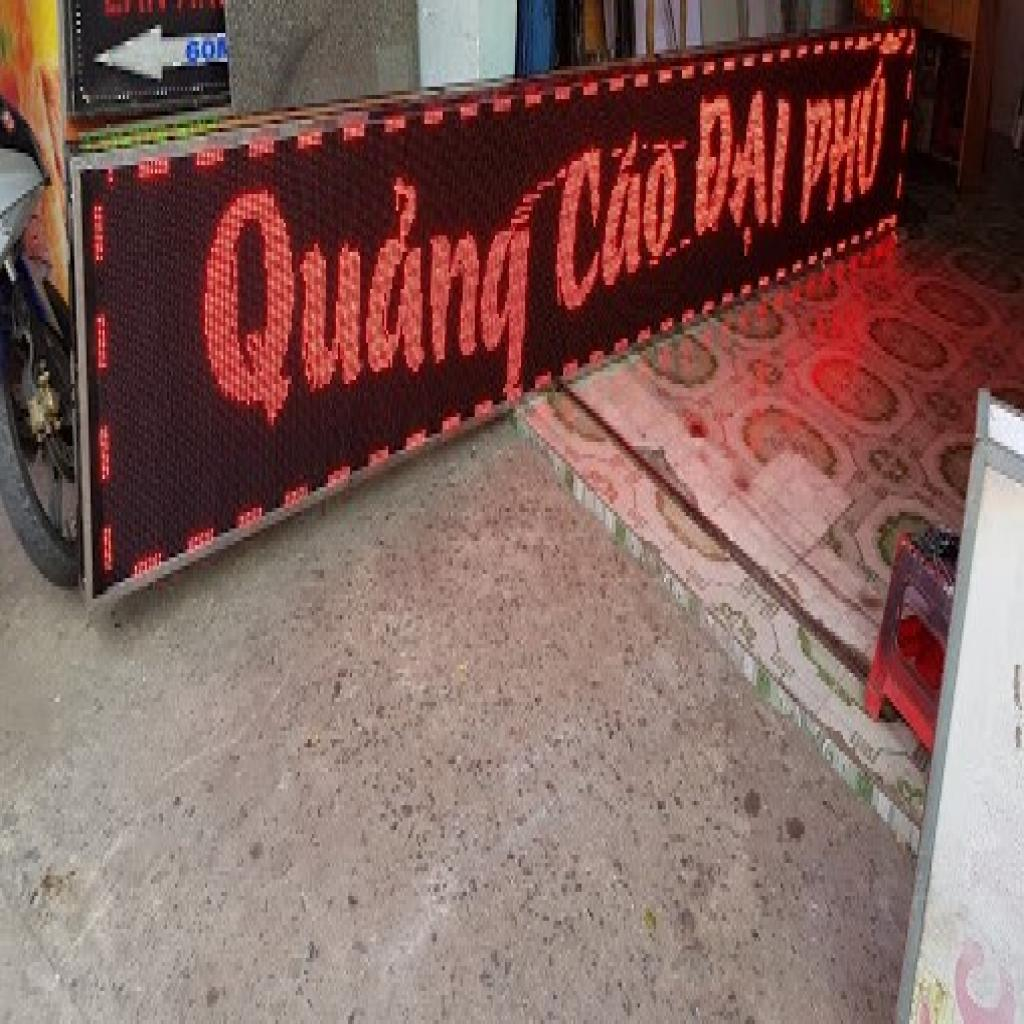text: (195, 140, 533, 475), (547, 104, 682, 330), (692, 82, 799, 285), (183, 33, 231, 66)
